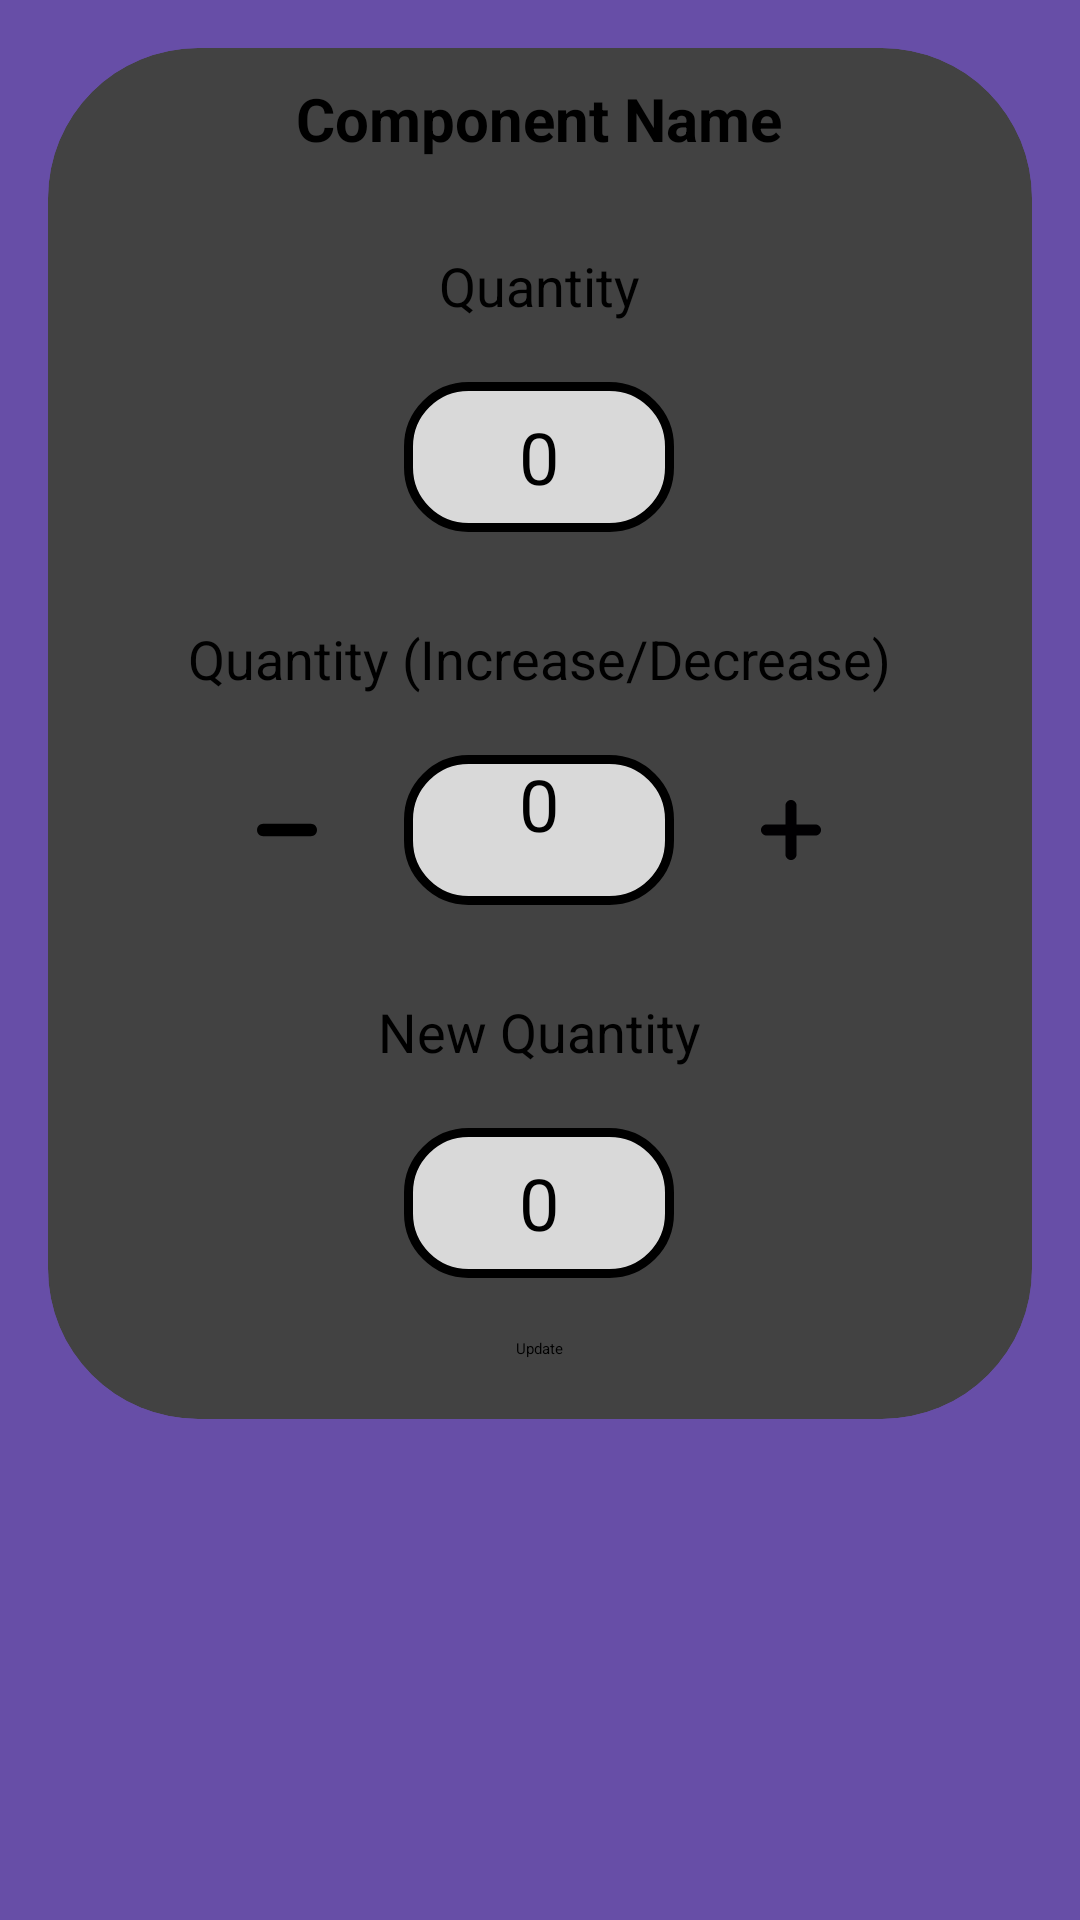

Icon bounding boxes for this 1080*1920 phone screenshot, format Rect(x1, y1, x2, y2):
add symbol: Rect(761, 800, 821, 860)
minus symbol: Rect(257, 824, 317, 836)
